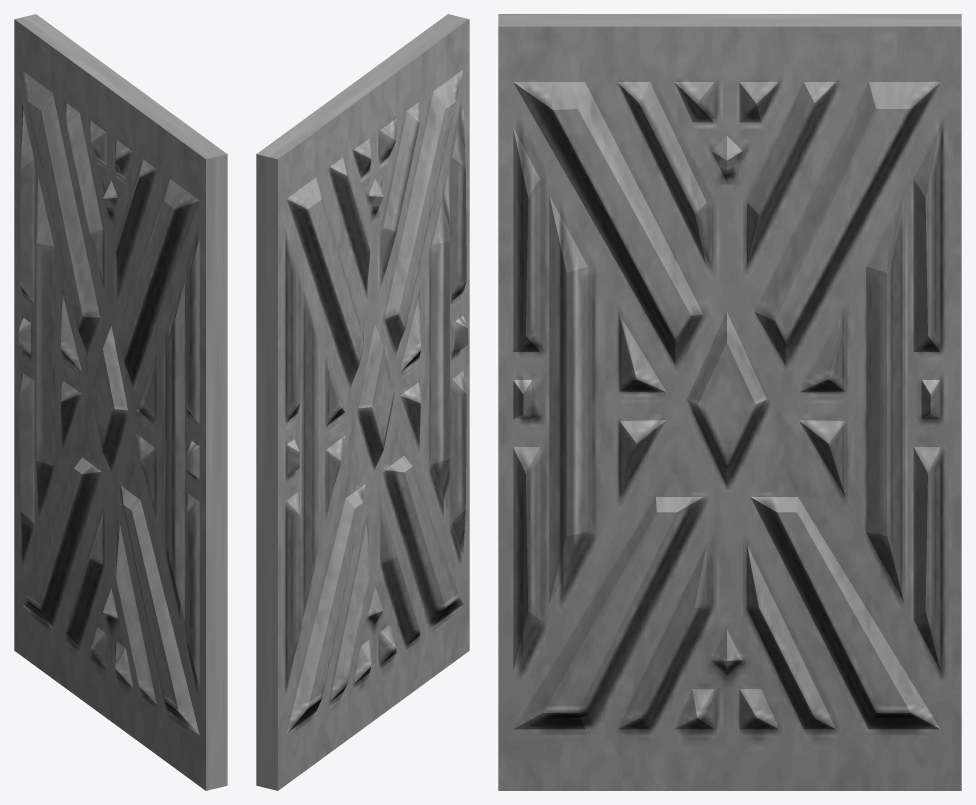
The model's file is door7.FBX.
3 views of the same model, side by side, from view 1: azimuth 30°, elevation 25°; view 2: azimuth 150°, elevation 25°; view 3: azimuth 270°, elevation 25° (orthographic). The views are drawn at different scales.
Visible parts, largest first — view 1: door7; view 2: door7; view 3: door7.
Part boxes in pixels (x1,y1,x2,y2): door7: (14, 14, 227, 790); door7: (256, 14, 469, 790); door7: (498, 14, 961, 790).
Size of the model in its own units: 23.45 by 200 by 364.
